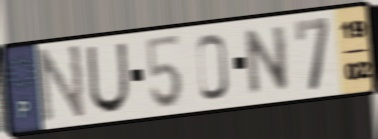0: (195, 32, 231, 103)
5: (144, 32, 185, 112)
7: (292, 14, 333, 94)
N: (37, 42, 87, 125), (244, 22, 291, 99)
U: (85, 40, 131, 116)
